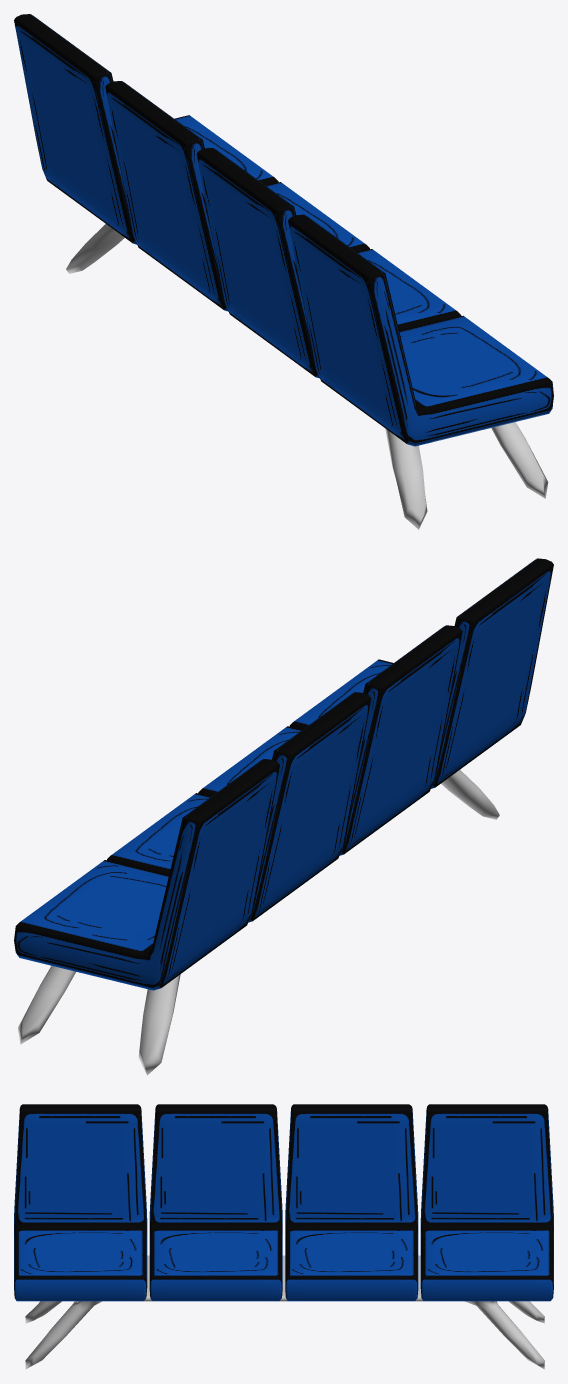
Rendered from sillas.fbx.
3 views of the same model, one above another, from view 1: azimuth 30°, elevation 25°; view 2: azimuth 150°, elevation 25°; view 3: azimuth 270°, elevation 25° (orthographic). The views are drawn at different scales.
Visible parts, largest first — view 1: polySurface3, polySurface2; view 2: polySurface3, polySurface2; view 3: polySurface3, polySurface2.
Part boxes in pixels (x1,y1,x2,y2): polySurface3: (14,14,553,446); polySurface2: (66,224,548,529); polySurface3: (14,558,553,990); polySurface2: (18,770,499,1075); polySurface3: (14,1104,553,1301); polySurface2: (25,1255,544,1369).
Size of the model in its own units: 0.0101 by 0.0137 by 0.0334.
